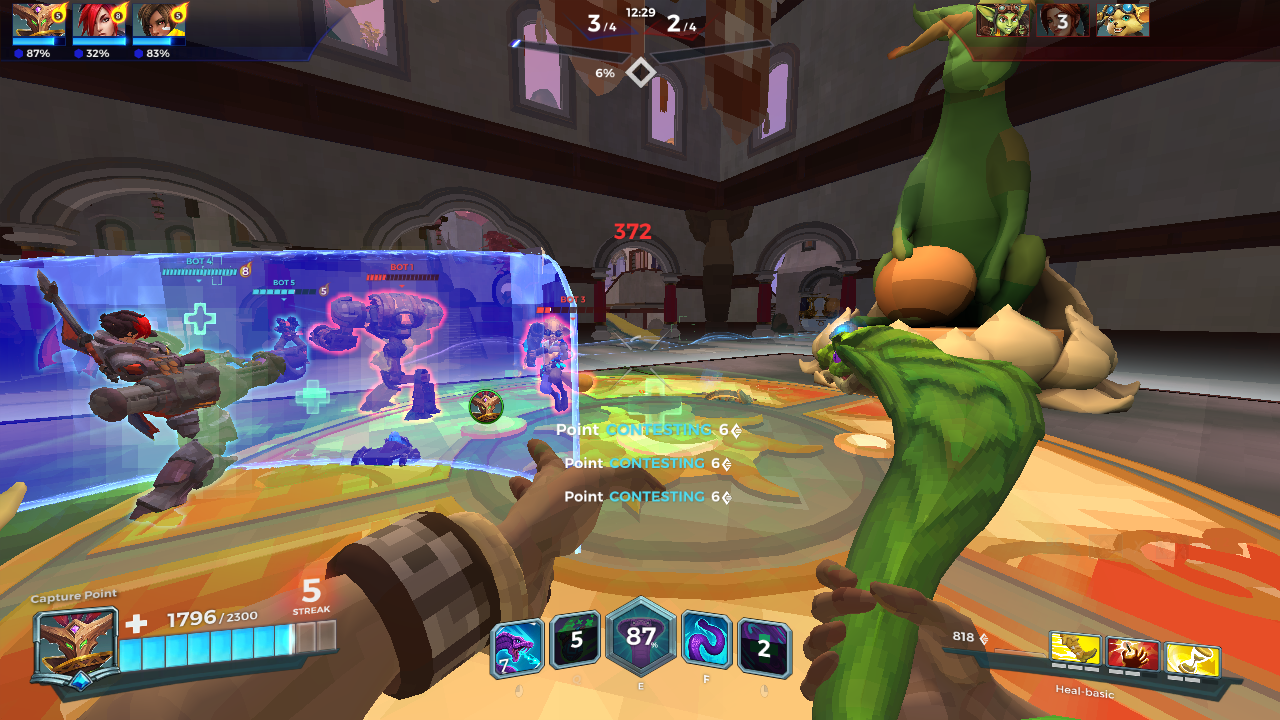model: (320, 287, 443, 420), (513, 314, 590, 414)
